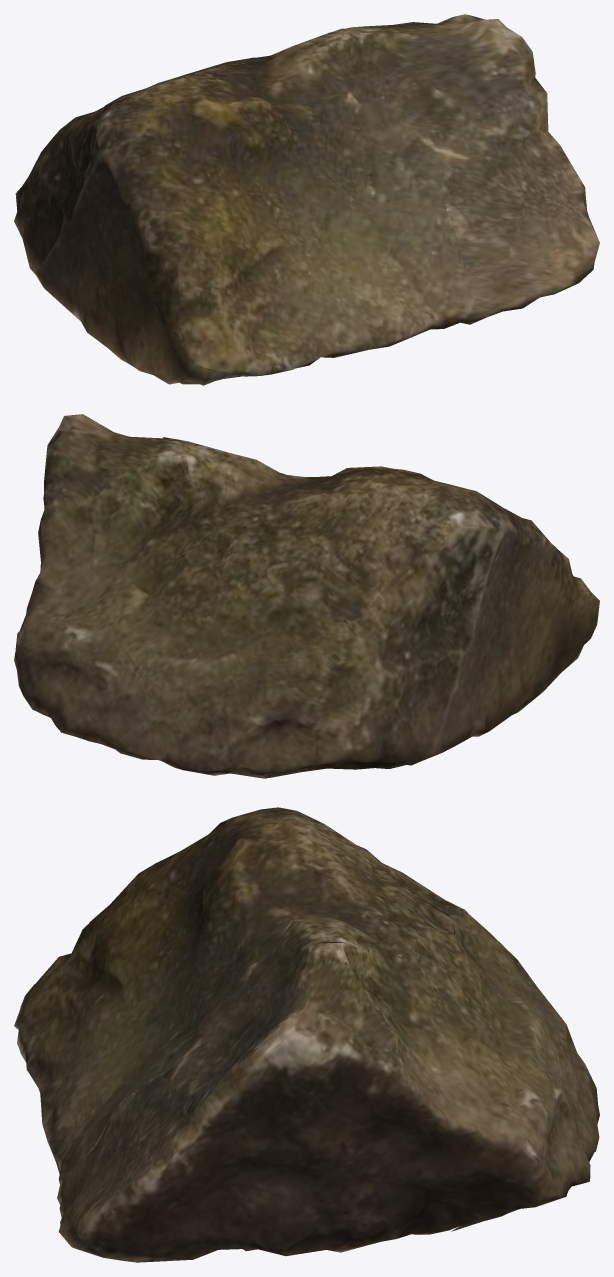
File: rock_moss_set_01_5.glb
3 renders of one model, top to bottom at view 1: azimuth 30°, elevation 25°; view 2: azimuth 150°, elevation 25°; view 3: azimuth 270°, elevation 25°, orthographic. The views are drawn at different scales.
Visible parts, largest first — view 1: rock_moss_set_01_rock03; view 2: rock_moss_set_01_rock03; view 3: rock_moss_set_01_rock03.
Part boxes in pixels (left/top/right/bottom): rock_moss_set_01_rock03: left=14, top=14, right=599, bottom=385; rock_moss_set_01_rock03: left=14, top=414, right=599, bottom=778; rock_moss_set_01_rock03: left=14, top=807, right=599, bottom=1262.
Size of the model in its own units: 2.11 by 1.1 by 2.08.
Materials: 1 (1 with a texture image).
